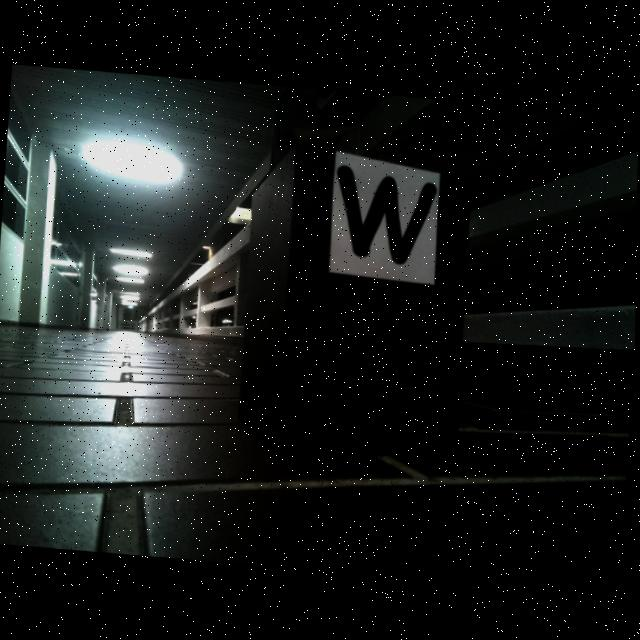W: (336, 161, 439, 265)
